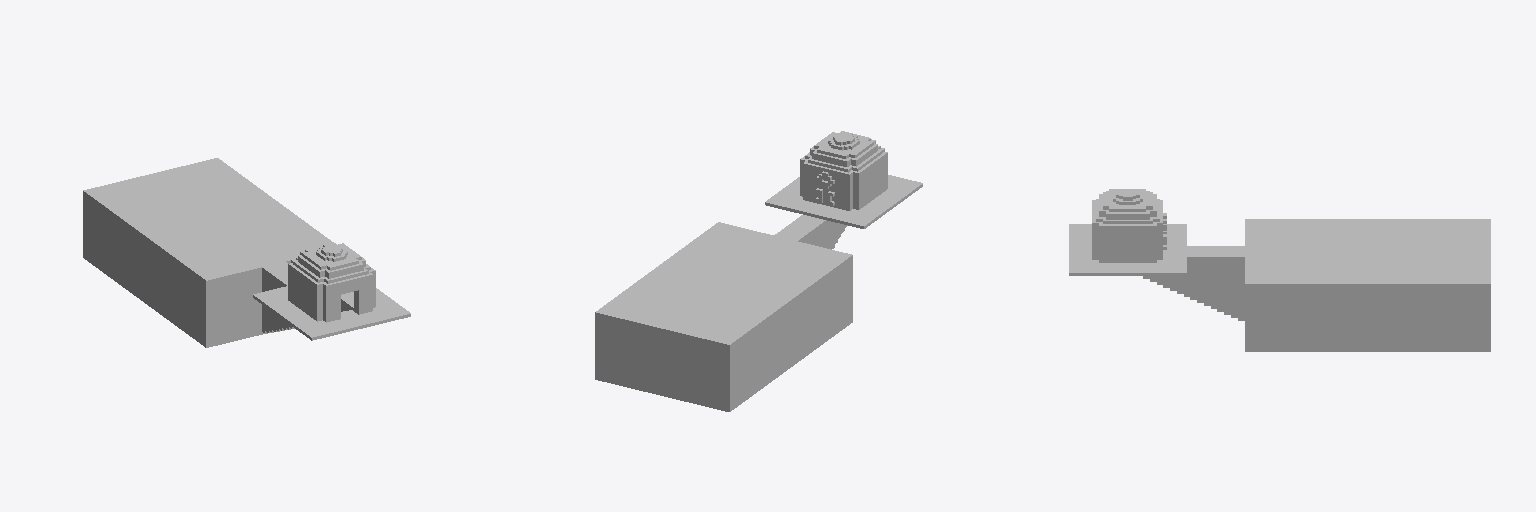
Rendered from 03_center_room_2X.obj.
3 renders of one model, left to right at view 1: azimuth 30°, elevation 25°; view 2: azimuth 150°, elevation 25°; view 3: azimuth 270°, elevation 25°, orthographic.
Bounding box in the file's own units: 46 × 41 × 125.